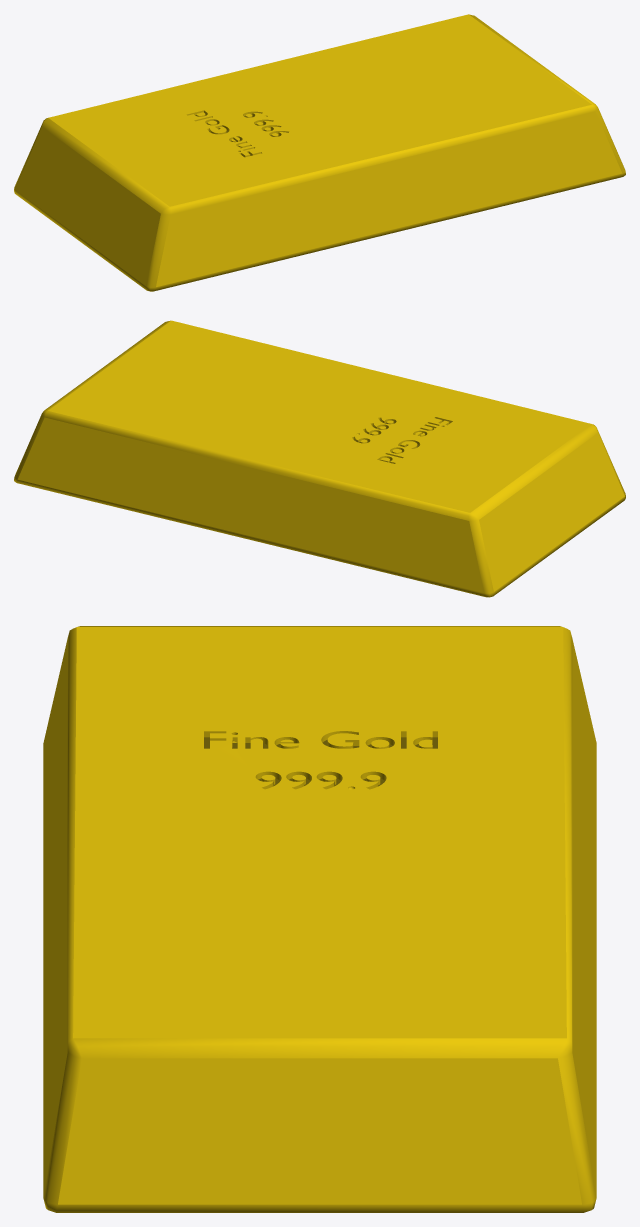
Rendered from ingot.glb.
3 renders of one model, top to bottom at view 1: azimuth 30°, elevation 25°; view 2: azimuth 150°, elevation 25°; view 3: azimuth 270°, elevation 25°, orthographic. The views are drawn at different scales.
Parts seen in each view (by area): view 1: ingot; view 2: ingot; view 3: ingot.
Boxes of the visible parts, box(x1,y1,x2,y2) form: ingot: box(14, 14, 625, 291); ingot: box(14, 320, 625, 597); ingot: box(43, 626, 596, 1212).
Bounding box in the file's own units: 0.1537 × 0.023 × 0.0768.
